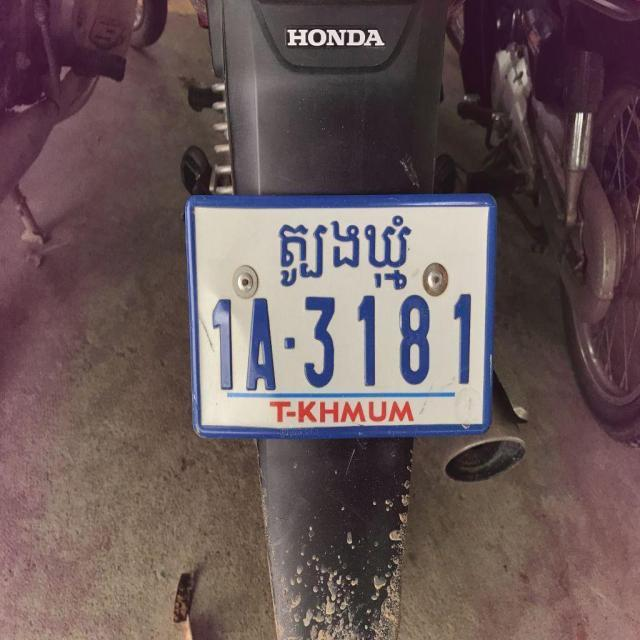Tboung_Khmum: (265, 212, 425, 296)
